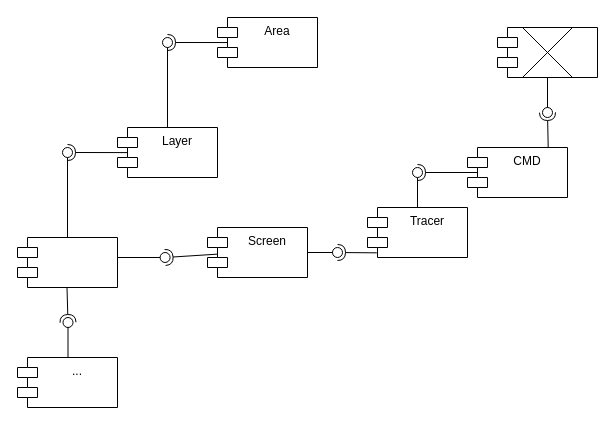
This 615x425 diagram has some shape labels left out. The centre of each missing label's shape, as x and y in pixels:
ReadLine: pixel 547 52
Shape: pixel 67 262
